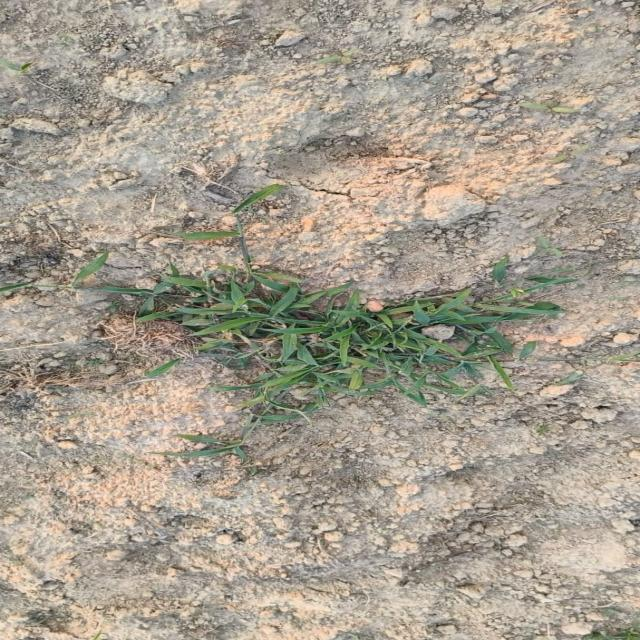weed: (57, 265, 573, 425), (70, 265, 567, 425), (150, 270, 559, 432), (67, 289, 271, 384), (96, 288, 148, 299), (422, 325, 455, 340), (484, 463, 493, 465)
